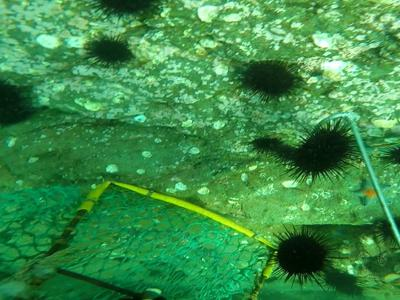urchin: (245, 61, 300, 102), (298, 131, 343, 179), (276, 232, 325, 274), (5, 81, 38, 127), (99, 1, 158, 24), (92, 39, 131, 68), (255, 138, 294, 159)
